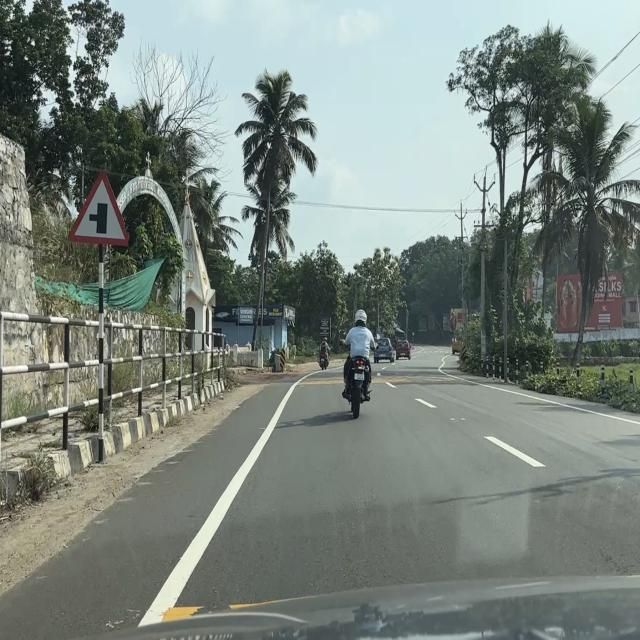SIDE_ROAD_LEFT: (66, 169, 134, 248)
